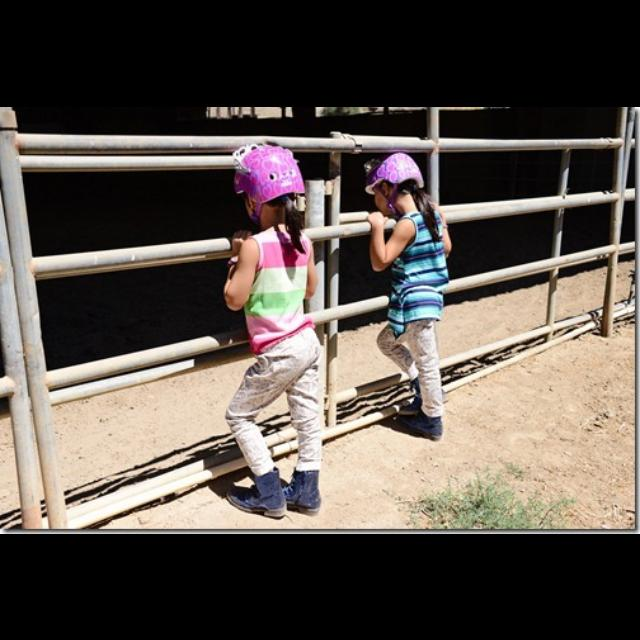With Helmet: (214, 130, 314, 222), (359, 150, 429, 222)
